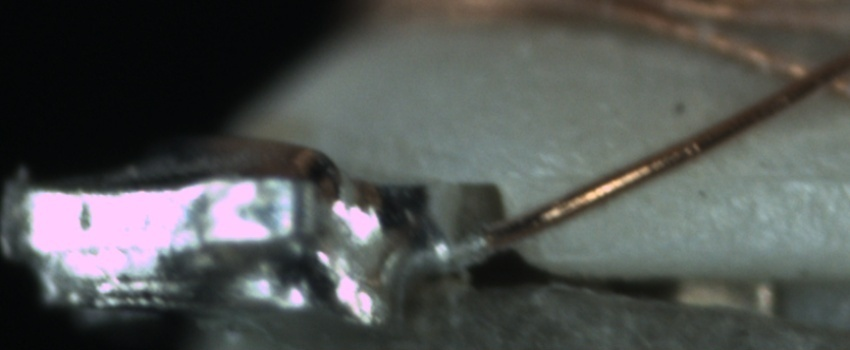CL: (763, 50, 847, 103)
DL: (662, 145, 849, 202)
